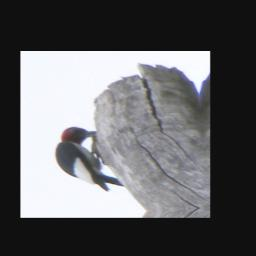Woodpecker: (50, 122, 126, 197)
